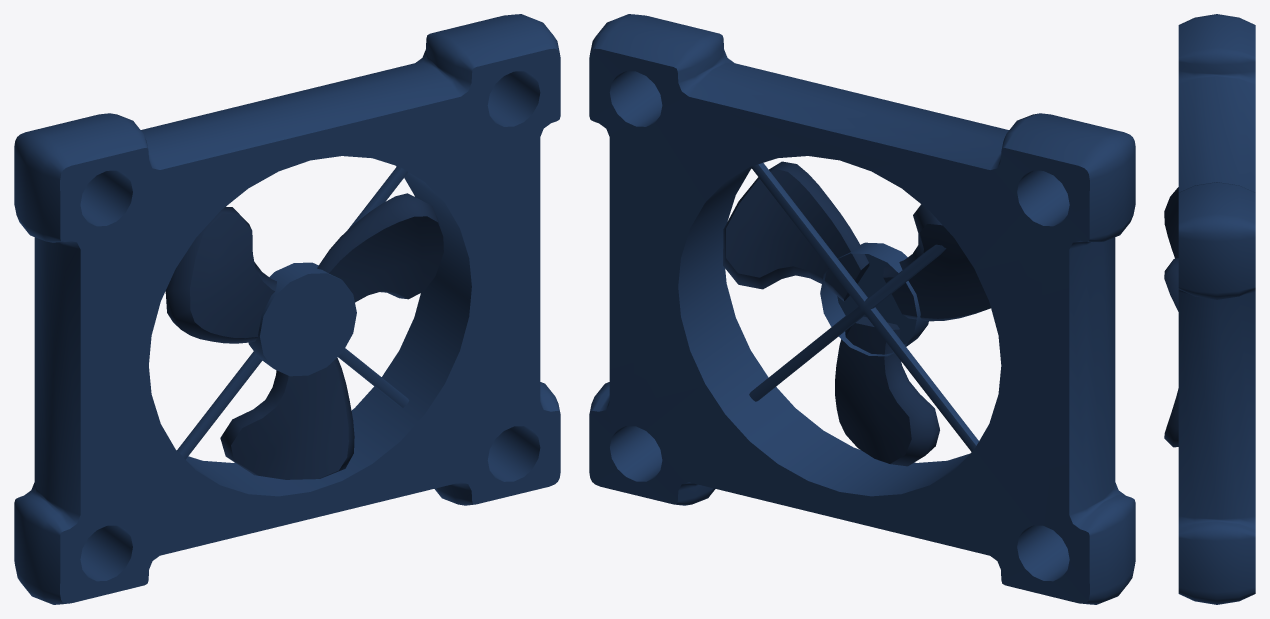
The model's file is chuifengji.FBX.
3 views of the same model, side by side, from view 1: azimuth 30°, elevation 25°; view 2: azimuth 150°, elevation 25°; view 3: azimuth 270°, elevation 25° (orthographic). The views are drawn at different scales.
Visible parts, largest first — view 1: 吹风机; view 2: 吹风机; view 3: 吹风机.
Part boxes in pixels (box(x1,y1,x2,y2)): 吹风机: box(14, 14, 560, 604); 吹风机: box(589, 14, 1135, 604); 吹风机: box(1164, 14, 1255, 604).
Size of the model in its own units: 141 by 119 by 25.34.
